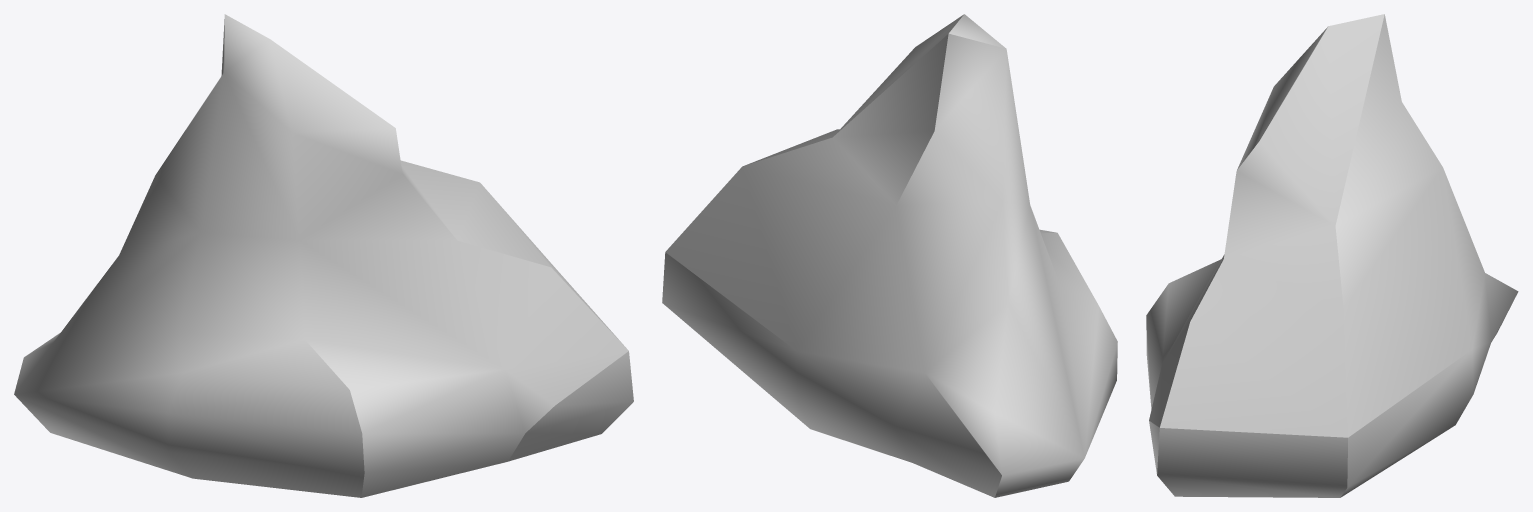
File: RockPiece_6.fbx
The picture shows the model from 3 angles, left to right: view 1: azimuth 30°, elevation 25°; view 2: azimuth 150°, elevation 25°; view 3: azimuth 270°, elevation 25°; orthographic projection. The views are drawn at different scales.
Parts seen in each view (by area): view 1: pCube13; view 2: pCube13; view 3: pCube13.
Boxes of the visible parts, x1=… form: pCube13: x1=14, y1=14, x2=633, y2=497; pCube13: x1=662, y1=14, x2=1117, y2=497; pCube13: x1=1146, y1=14, x2=1518, y2=497.
Bounding box in the file's own units: 0.0686 × 0.0542 × 0.0497.
